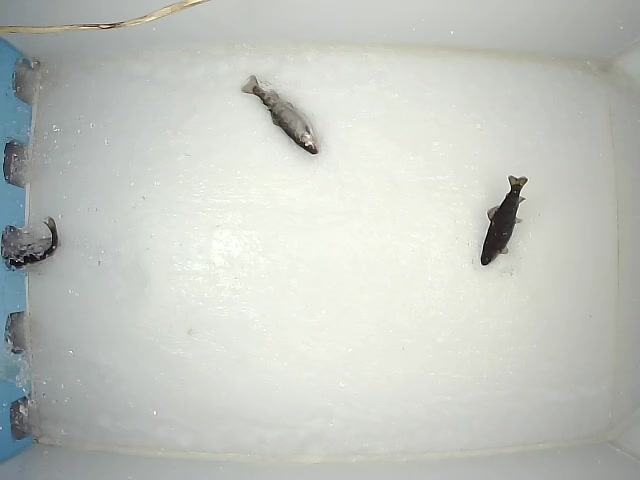fish: (240, 74, 320, 157), (479, 173, 529, 267), (5, 216, 59, 270)
